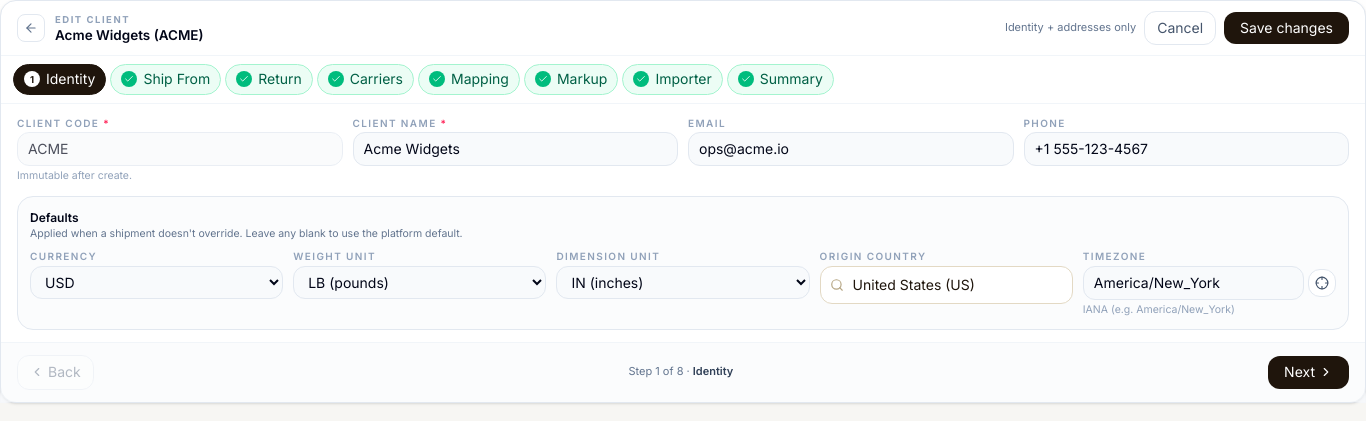
it: ClientEditorPage · ShipFrom · negative › no warehouses → picker shows the "add one first" empty option + empty-state hint
The width and height of the screenshot is (1366, 421).
Expected: the field with placeholder "MA1885" is shown, [17,132,342,166]
Click the tab "Ship From" at (166, 79), box [110,64,221,95]
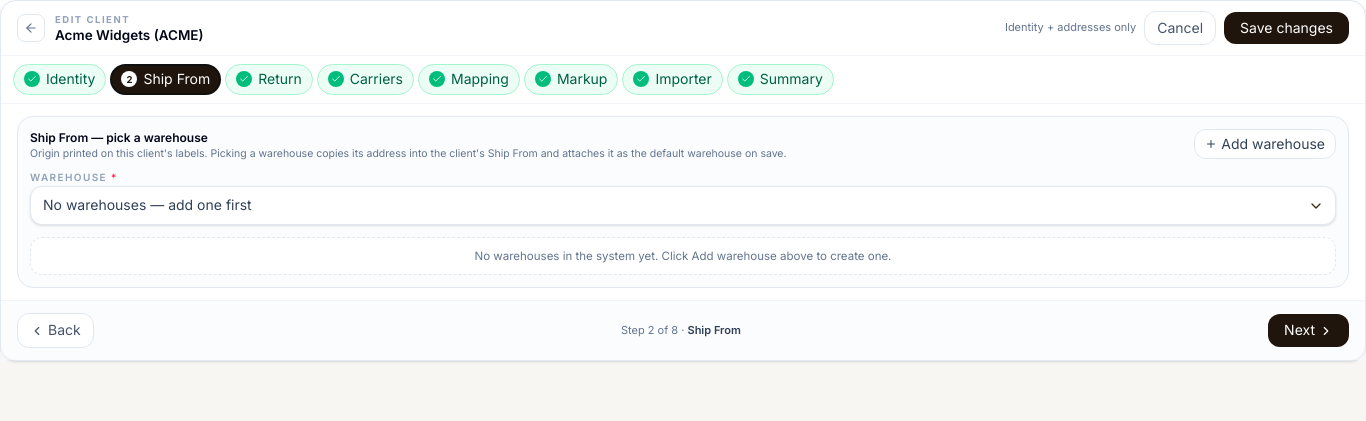
Now the heading "Ship From — pick a warehouse" is shown, box [30,130,208,145]
Now the text "No warehouses in the system yet. Click Add warehouse above to create one." is shown, box [30,237,1336,276]
